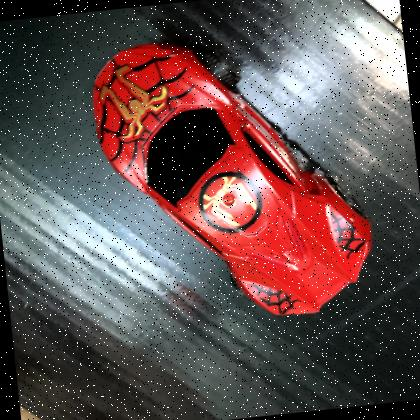Car: (90, 39, 372, 315)
